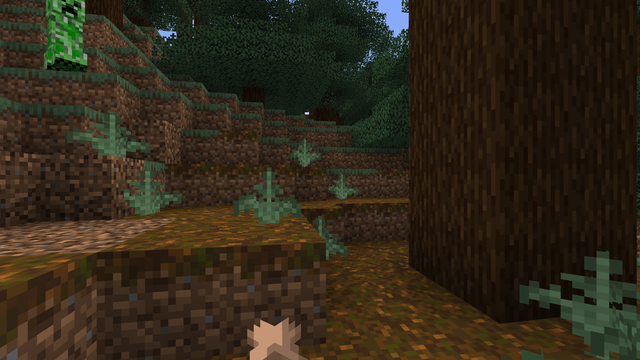creepers: (37, 1, 90, 72)
